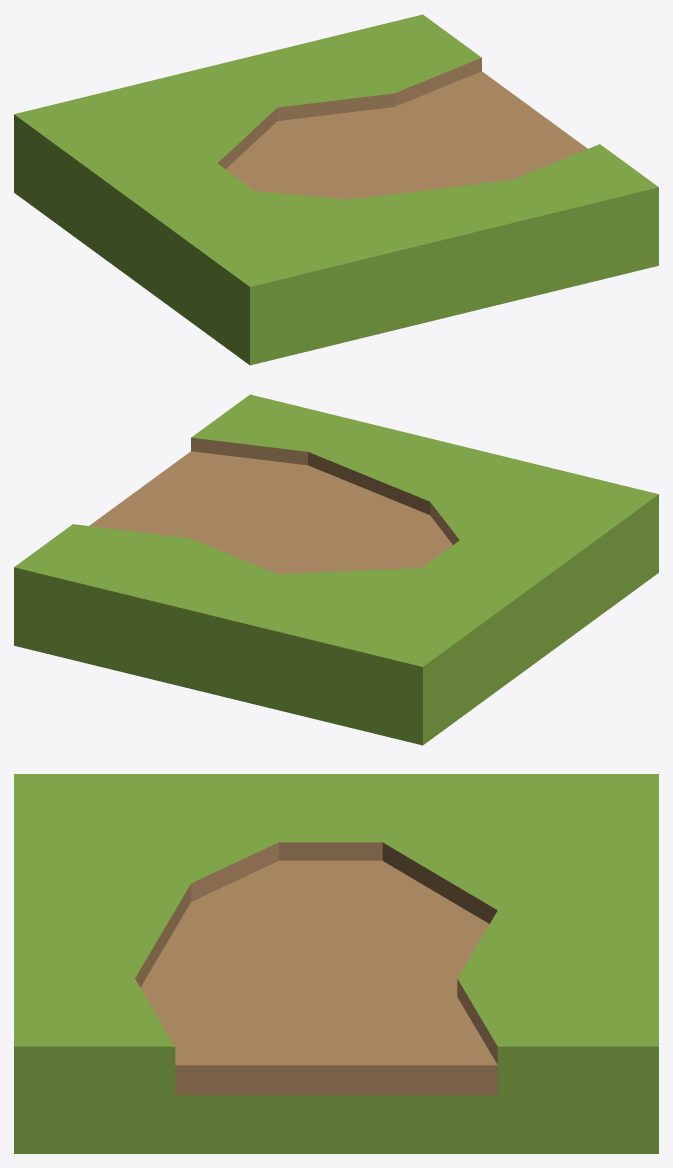
Rendered from tile239.dae.
3 views of the same model, one above another, from view 1: azimuth 30°, elevation 25°; view 2: azimuth 150°, elevation 25°; view 3: azimuth 270°, elevation 25° (orthographic). The views are drawn at different scales.
Visible parts, largest first — view 1: tile239; view 2: tile239; view 3: tile239.
Boxes of the visible parts, x1,y1,x2,y2 form: tile239: (14,14,658,365); tile239: (14,394,658,745); tile239: (14,774,658,1153).
Bounding box in the file's own units: 1 × 0.1833 × 1.
